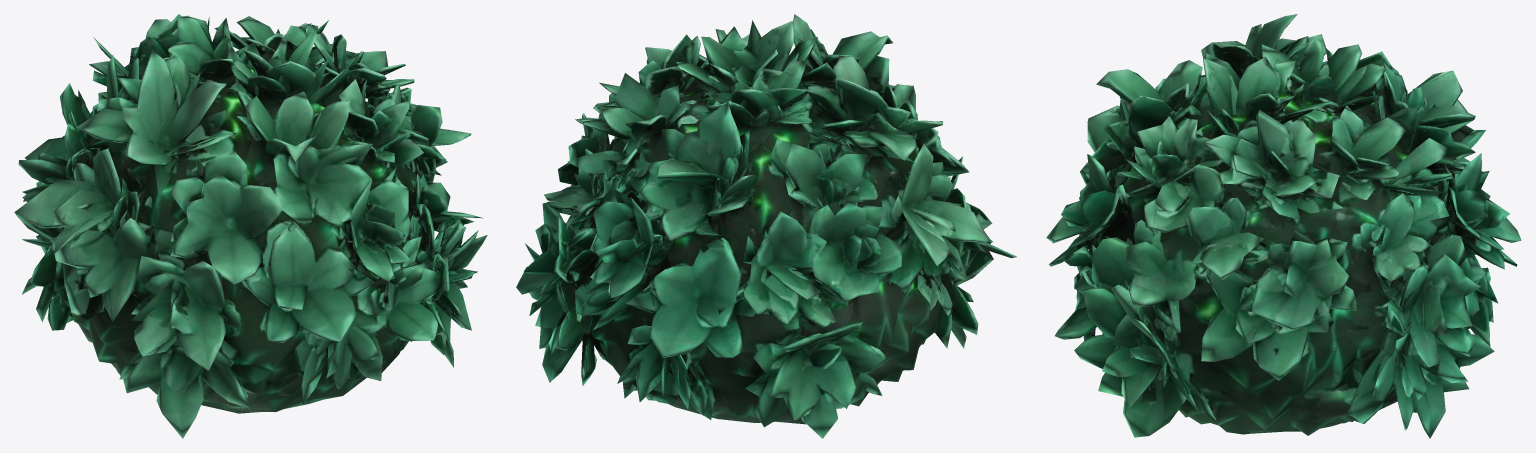
Rendered from bush.glb.
3 renders of one model, left to right at view 1: azimuth 30°, elevation 25°; view 2: azimuth 150°, elevation 25°; view 3: azimuth 270°, elevation 25°, orthographic.
Visible parts, largest first — view 1: Mesh1.0; view 2: Mesh1.0; view 3: Mesh1.0.
Boxes of the visible parts, x1,y1,x2,y2 form: Mesh1.0: (14,14,487,438); Mesh1.0: (516,14,1016,438); Mesh1.0: (1046,14,1521,438).
Size of the model in its own units: 1.91 by 1.56 by 1.91.
1 material, 1 textured.
